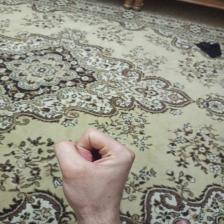five: (47, 129, 139, 213)
